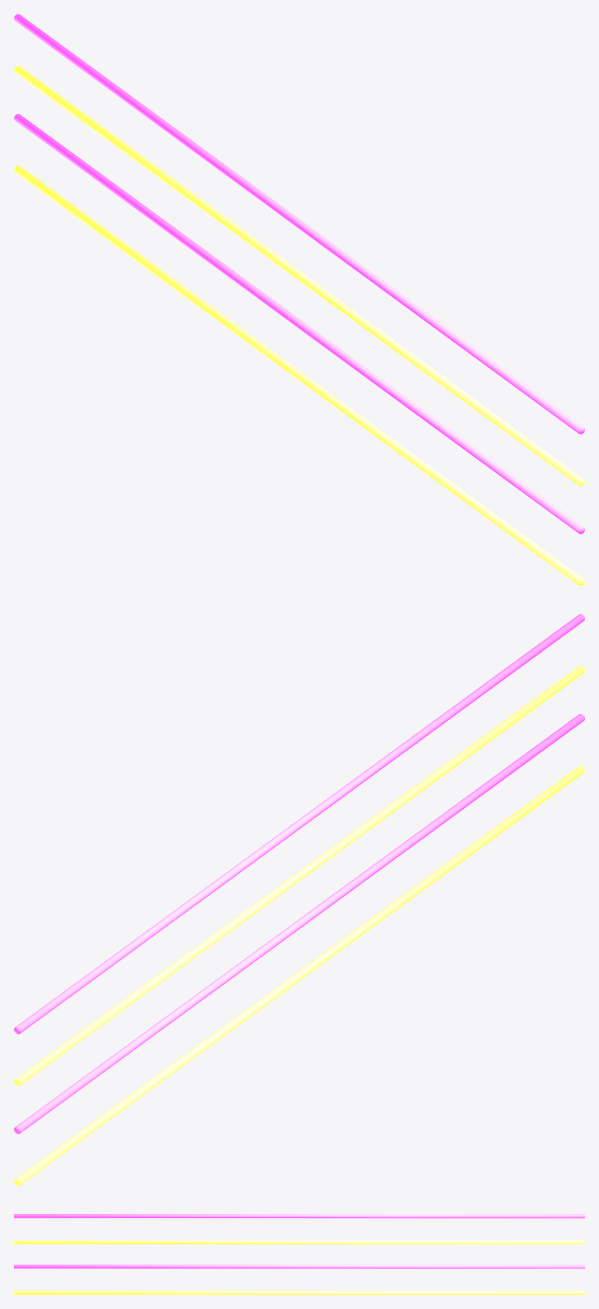
Rendered from boarders.fbx.
3 renders of one model, top to bottom at view 1: azimuth 30°, elevation 25°; view 2: azimuth 150°, elevation 25°; view 3: azimuth 270°, elevation 25°, orthographic. The views are drawn at different scales.
Parts seen in each view (by area): view 1: lines; view 2: lines; view 3: lines.
Part boxes in pixels (<box>): lines: <box>14,14,584,585</box>; lines: <box>14,614,584,1185</box>; lines: <box>14,1214,584,1294</box>.
Bounding box in the file's own units: 104 × 2226 × 14311.
